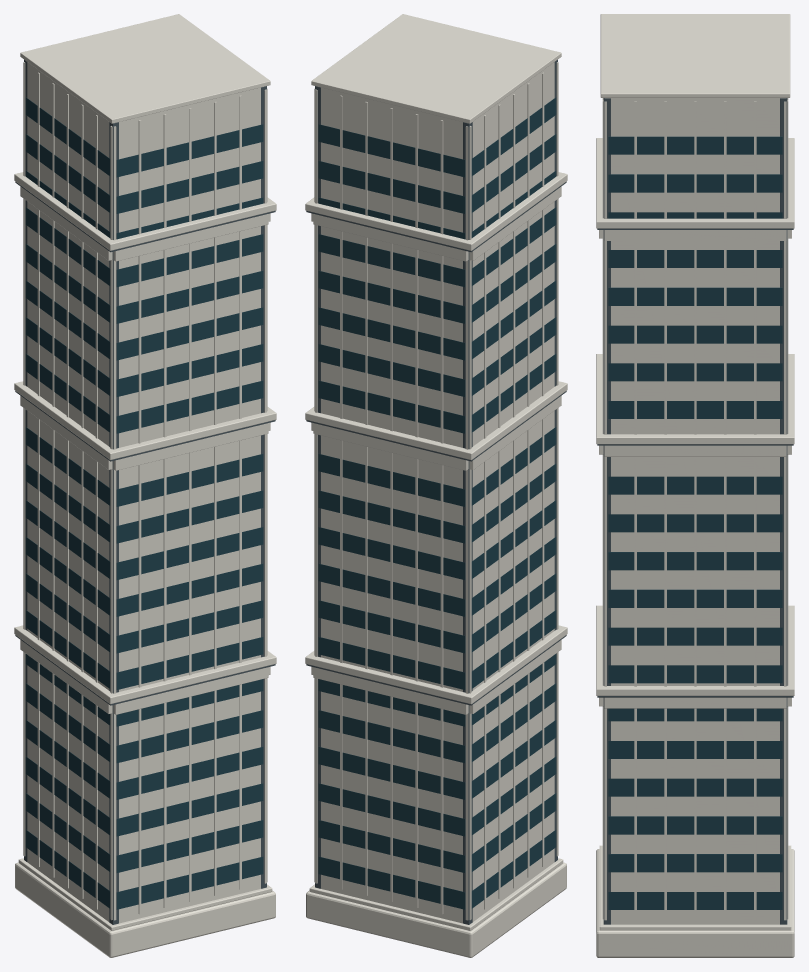
File: CityDeepBase.fbx
3 views of the same model, side by side, from view 1: azimuth 30°, elevation 25°; view 2: azimuth 150°, elevation 25°; view 3: azimuth 270°, elevation 25° (orthographic). The views are drawn at different scales.
Visible parts, largest first — view 1: CityDeepBase_SC_Concrete, CityDeepBase_SC_Glass, CityDeepBase_SC_Metal; view 2: CityDeepBase_SC_Concrete, CityDeepBase_SC_Glass, CityDeepBase_SC_Metal; view 3: CityDeepBase_SC_Concrete, CityDeepBase_SC_Glass, CityDeepBase_SC_Metal.
Boxes of the visible parts, box(x1,y1,x2,y2) form: CityDeepBase_SC_Concrete: box(14, 14, 276, 957); CityDeepBase_SC_Glass: box(25, 97, 263, 909); CityDeepBase_SC_Metal: box(15, 59, 275, 924); CityDeepBase_SC_Concrete: box(305, 14, 567, 957); CityDeepBase_SC_Glass: box(318, 97, 556, 909); CityDeepBase_SC_Metal: box(306, 59, 566, 924); CityDeepBase_SC_Concrete: box(596, 14, 794, 957); CityDeepBase_SC_Glass: box(608, 136, 782, 909); CityDeepBase_SC_Metal: box(597, 98, 793, 924).
Bounding box in the file's own units: 20 × 96 × 20.
